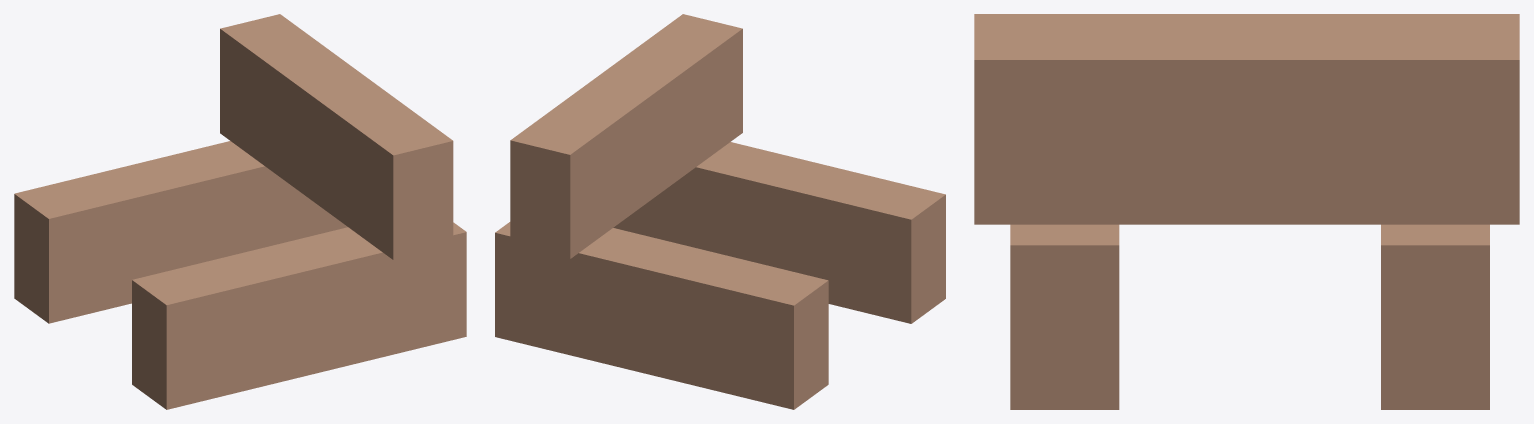
The model's file is env17.dae.
The picture shows the model from 3 angles, left to right: view 1: azimuth 30°, elevation 25°; view 2: azimuth 150°, elevation 25°; view 3: azimuth 270°, elevation 25°; orthographic projection. The views are drawn at different scales.
Visible parts, largest first — view 1: base (×3); view 2: base (×3); view 3: base (×3).
Part boxes in pixels (x1,y1,x2,y2): base (×3): (14,14,466,409); base (×3): (495,14,945,409); base (×3): (974,14,1519,409).
Size of the model in its own units: 0.1524 by 0.1524 by 0.102.
